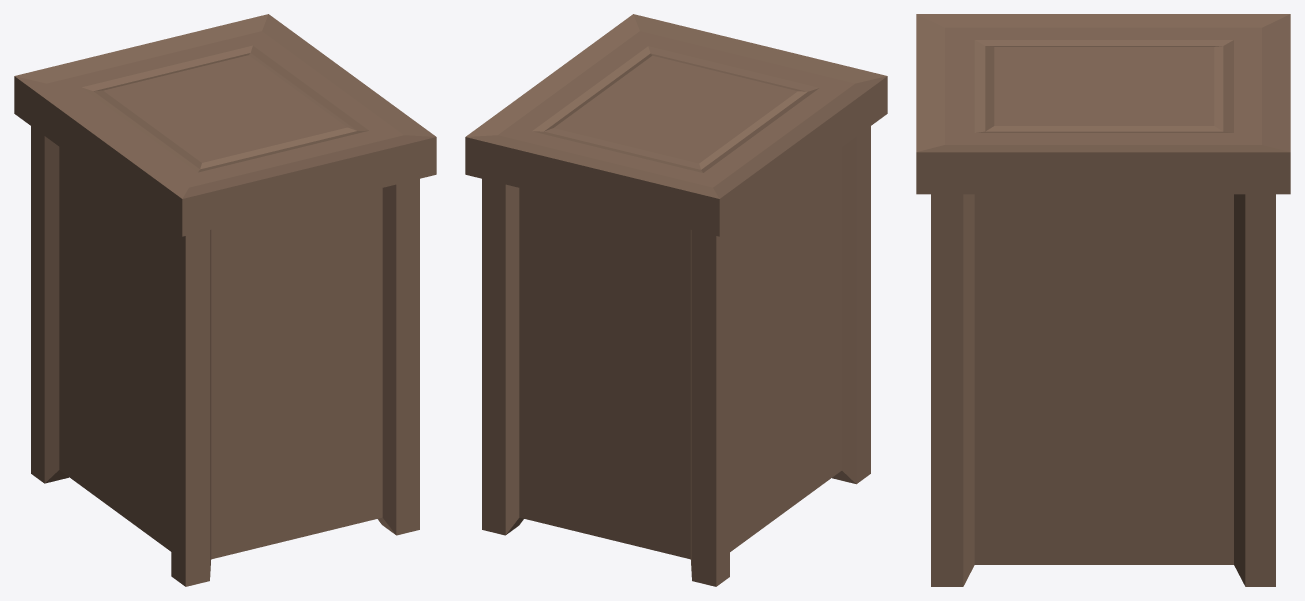
Rendered from Bedside_desk.fbx.
3 renders of one model, left to right at view 1: azimuth 30°, elevation 25°; view 2: azimuth 150°, elevation 25°; view 3: azimuth 270°, elevation 25°, orthographic. The views are drawn at different scales.
Visible parts, largest first — view 1: pCube7; view 2: pCube7; view 3: pCube7.
Part boxes in pixels (<box>): pCube7: <box>14,14,436,586</box>; pCube7: <box>465,14,887,586</box>; pCube7: <box>916,14,1290,586</box>.
Size of the model in its own units: 1.42 by 2.11 by 1.63.
